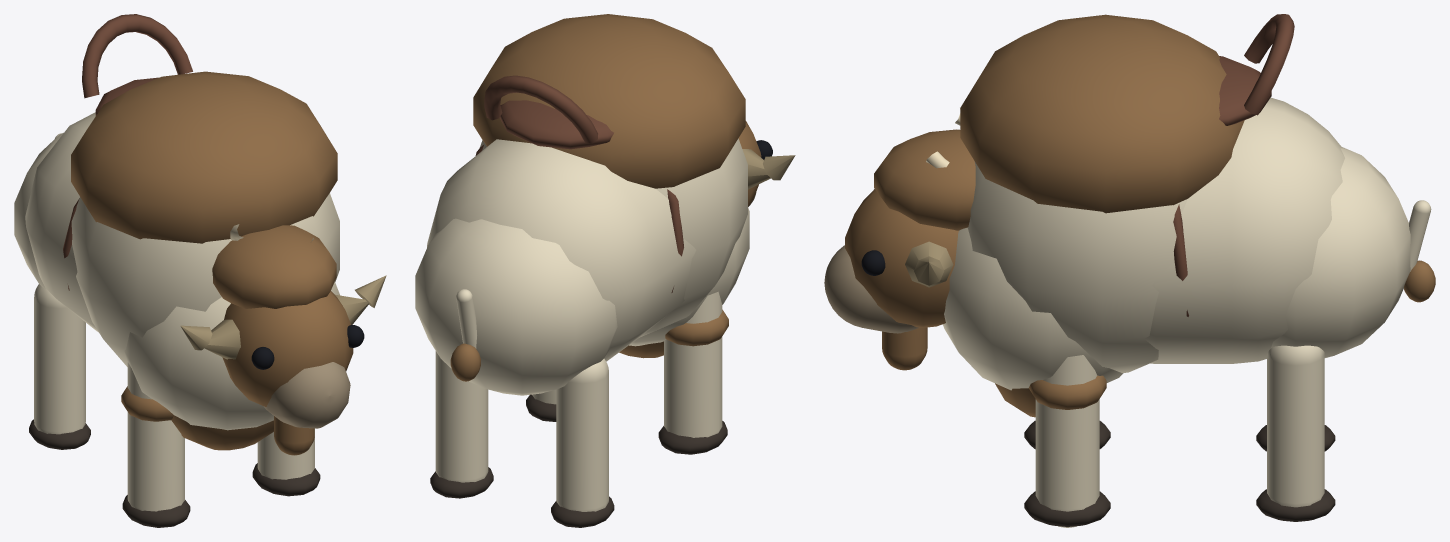
Rendered from bison.glb.
The picture shows the model from 3 angles, left to right: view 1: azimuth 30°, elevation 25°; view 2: azimuth 150°, elevation 25°; view 3: azimuth 270°, elevation 25°; orthographic projection. The views are drawn at different scales.
Parts seen in each view (by area): view 1: coat, wool, head, muzzle, saddle, hooves, horns, eyes; view 2: coat, wool, saddle, hooves, horns, tailTuft, tailGeo, head; view 3: coat, wool, head, saddle, hooves, muzzle, horns, tailTuft, tailGeo.
Boxes of the visible parts, box(x1,y1,x2,y2) form: coat: box(14, 112, 340, 511); wool: box(71, 71, 337, 450); head: box(212, 225, 353, 455); muzzle: box(264, 362, 350, 428); saddle: box(63, 14, 192, 290); hooves: box(29, 419, 320, 527); horns: box(180, 275, 386, 359); eyes: box(251, 325, 364, 369); coat: box(415, 138, 749, 511); wool: box(473, 14, 745, 358); saddle: box(475, 75, 683, 292); hooves: box(430, 394, 727, 527); horns: box(742, 149, 795, 189); tailTuft: box(450, 343, 480, 381); tailGeo: box(456, 289, 476, 348); head: box(738, 121, 761, 206); coat: box(943, 97, 1410, 527); wool: box(960, 14, 1244, 417); head: box(845, 129, 975, 370); saddle: box(1173, 14, 1294, 316); hooves: box(1024, 420, 1335, 526); muzzle: box(824, 245, 918, 333); horns: box(905, 241, 953, 287); tailTuft: box(1404, 260, 1435, 302); tailGeo: box(1409, 200, 1431, 271).
Size of the model in its own units: 1.97 by 3.4 by 4.02.
